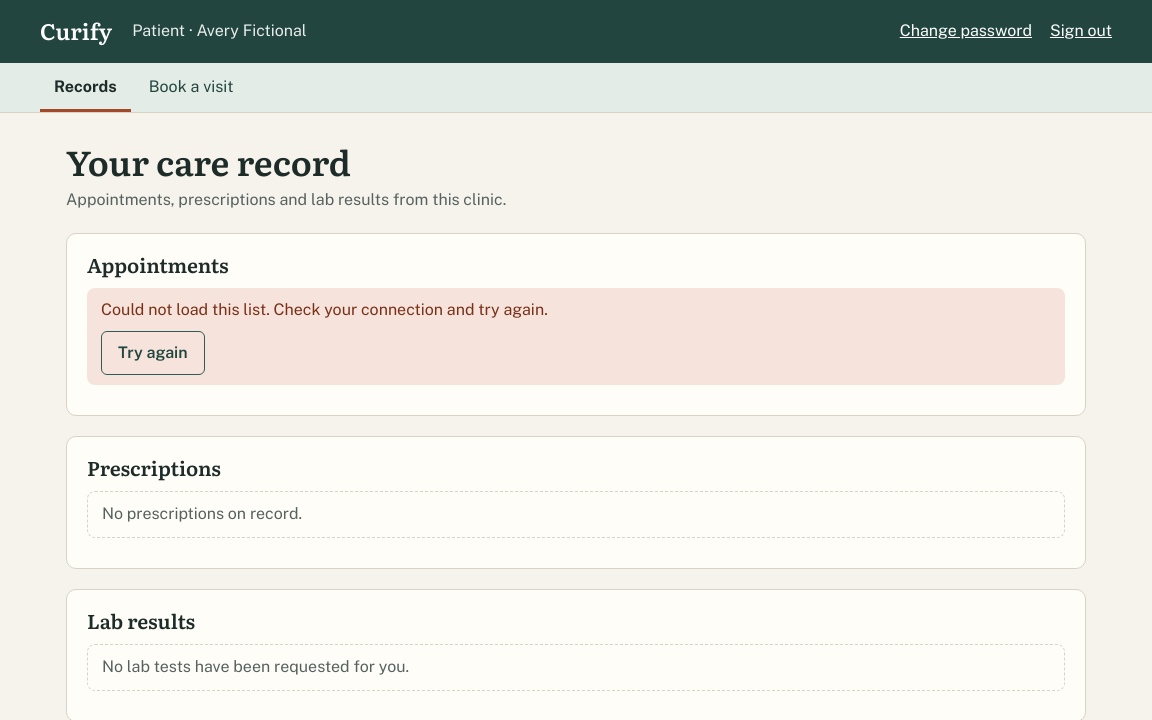
Test: a failed list load offers a retry
The image size is (1152, 720).
Click the button "Try again".
click(153, 353)  # box [101,331,205,375]
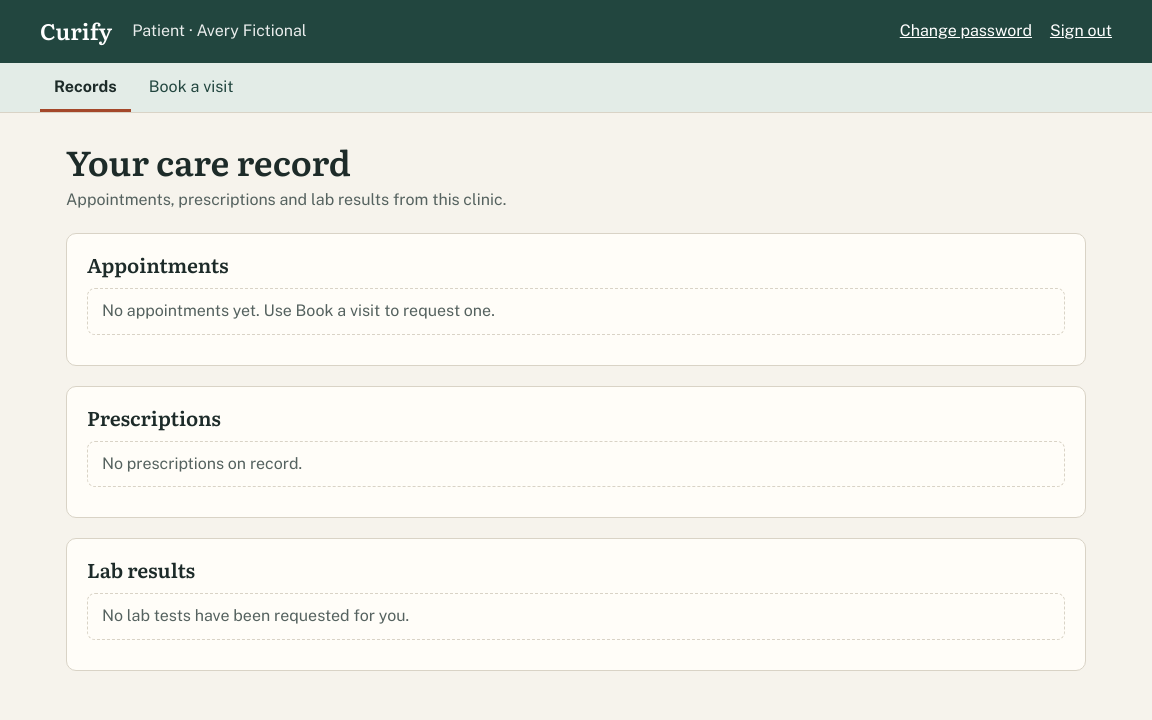
Expected: the text "No appointments yet. Use Book a visit to request one." is shown, [87,288,1065,335]
